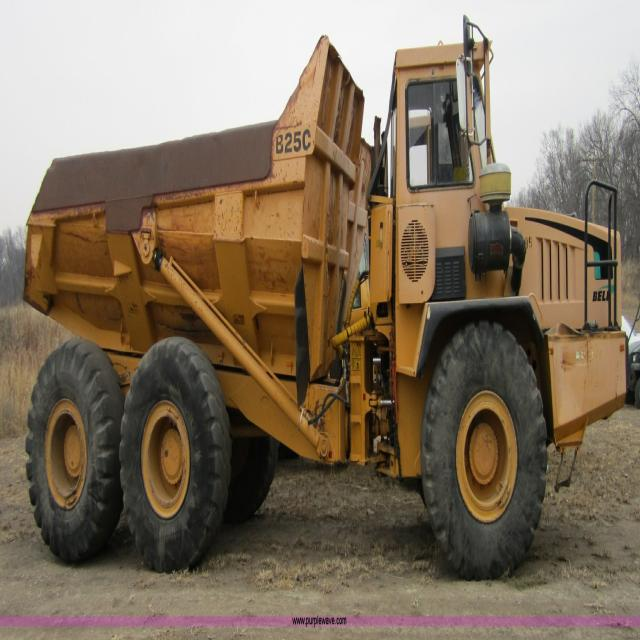dump_truck: (32, 19, 628, 580)
